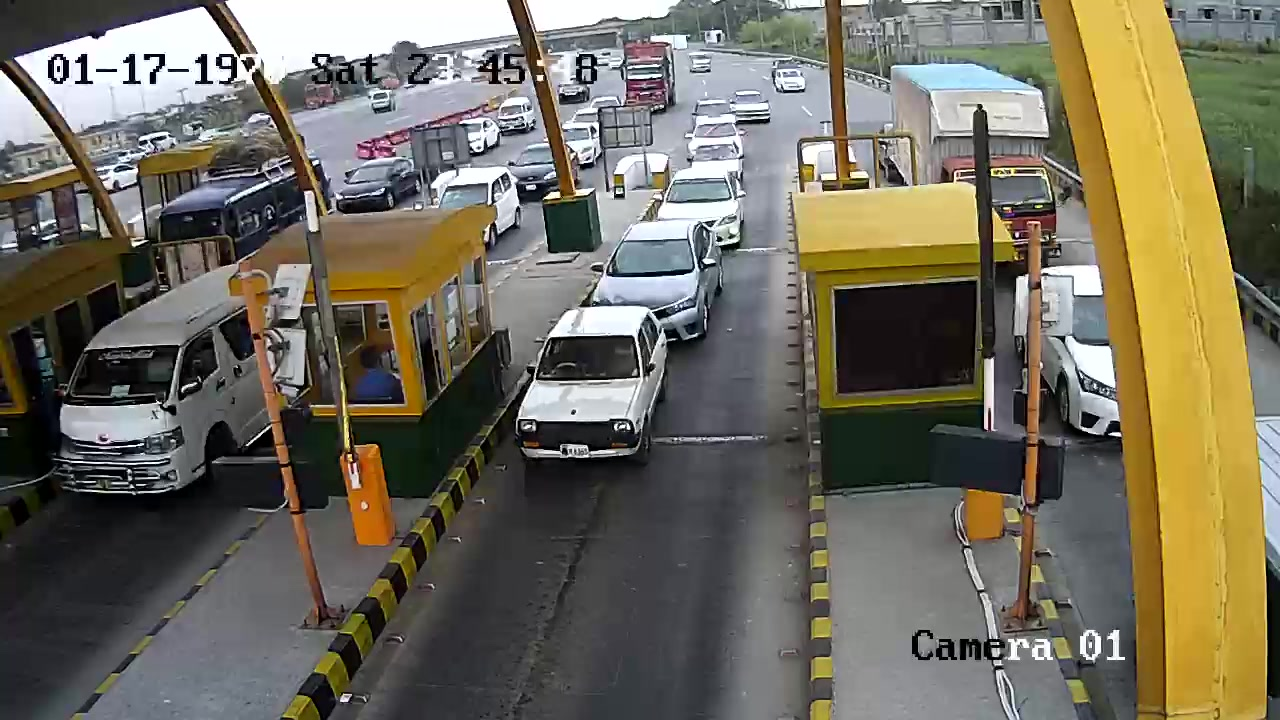F1: (511, 301, 676, 474)
